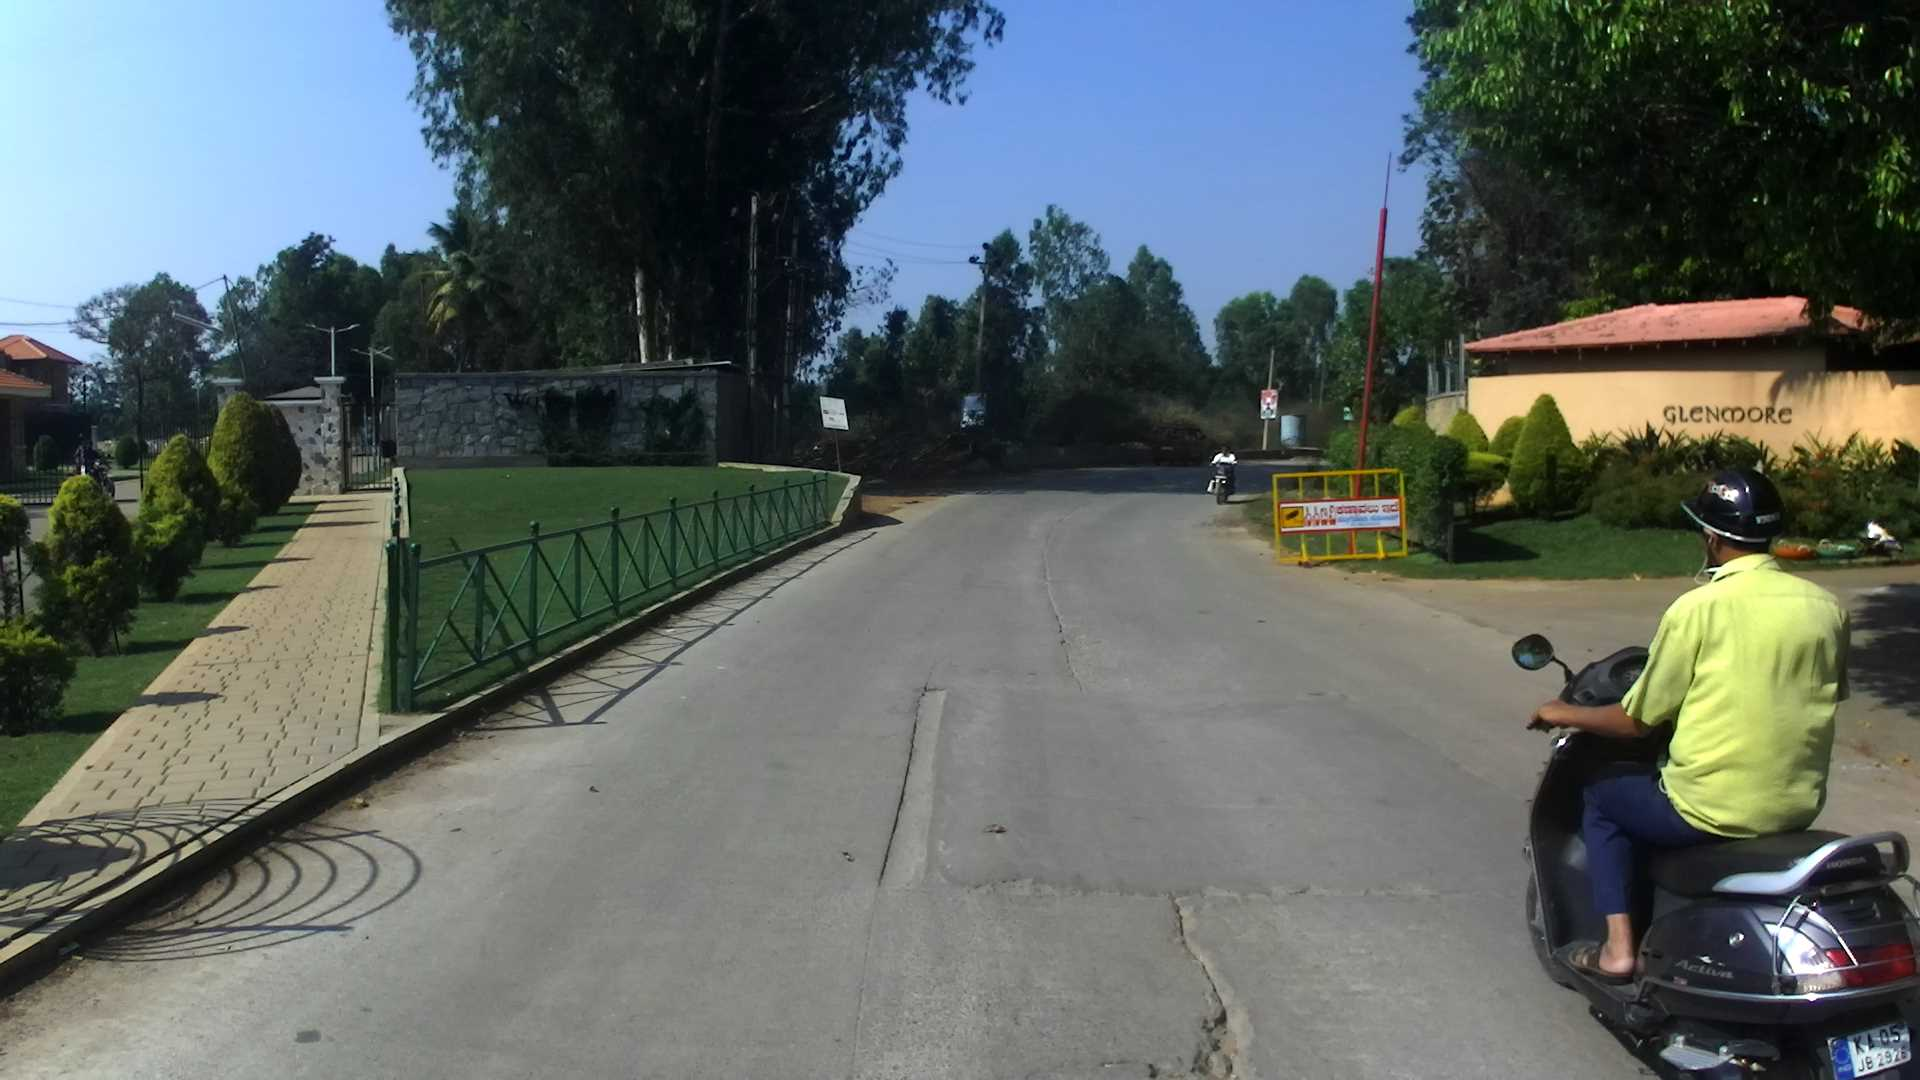bike: (1519, 425, 1920, 1080), (1184, 438, 1254, 514)
